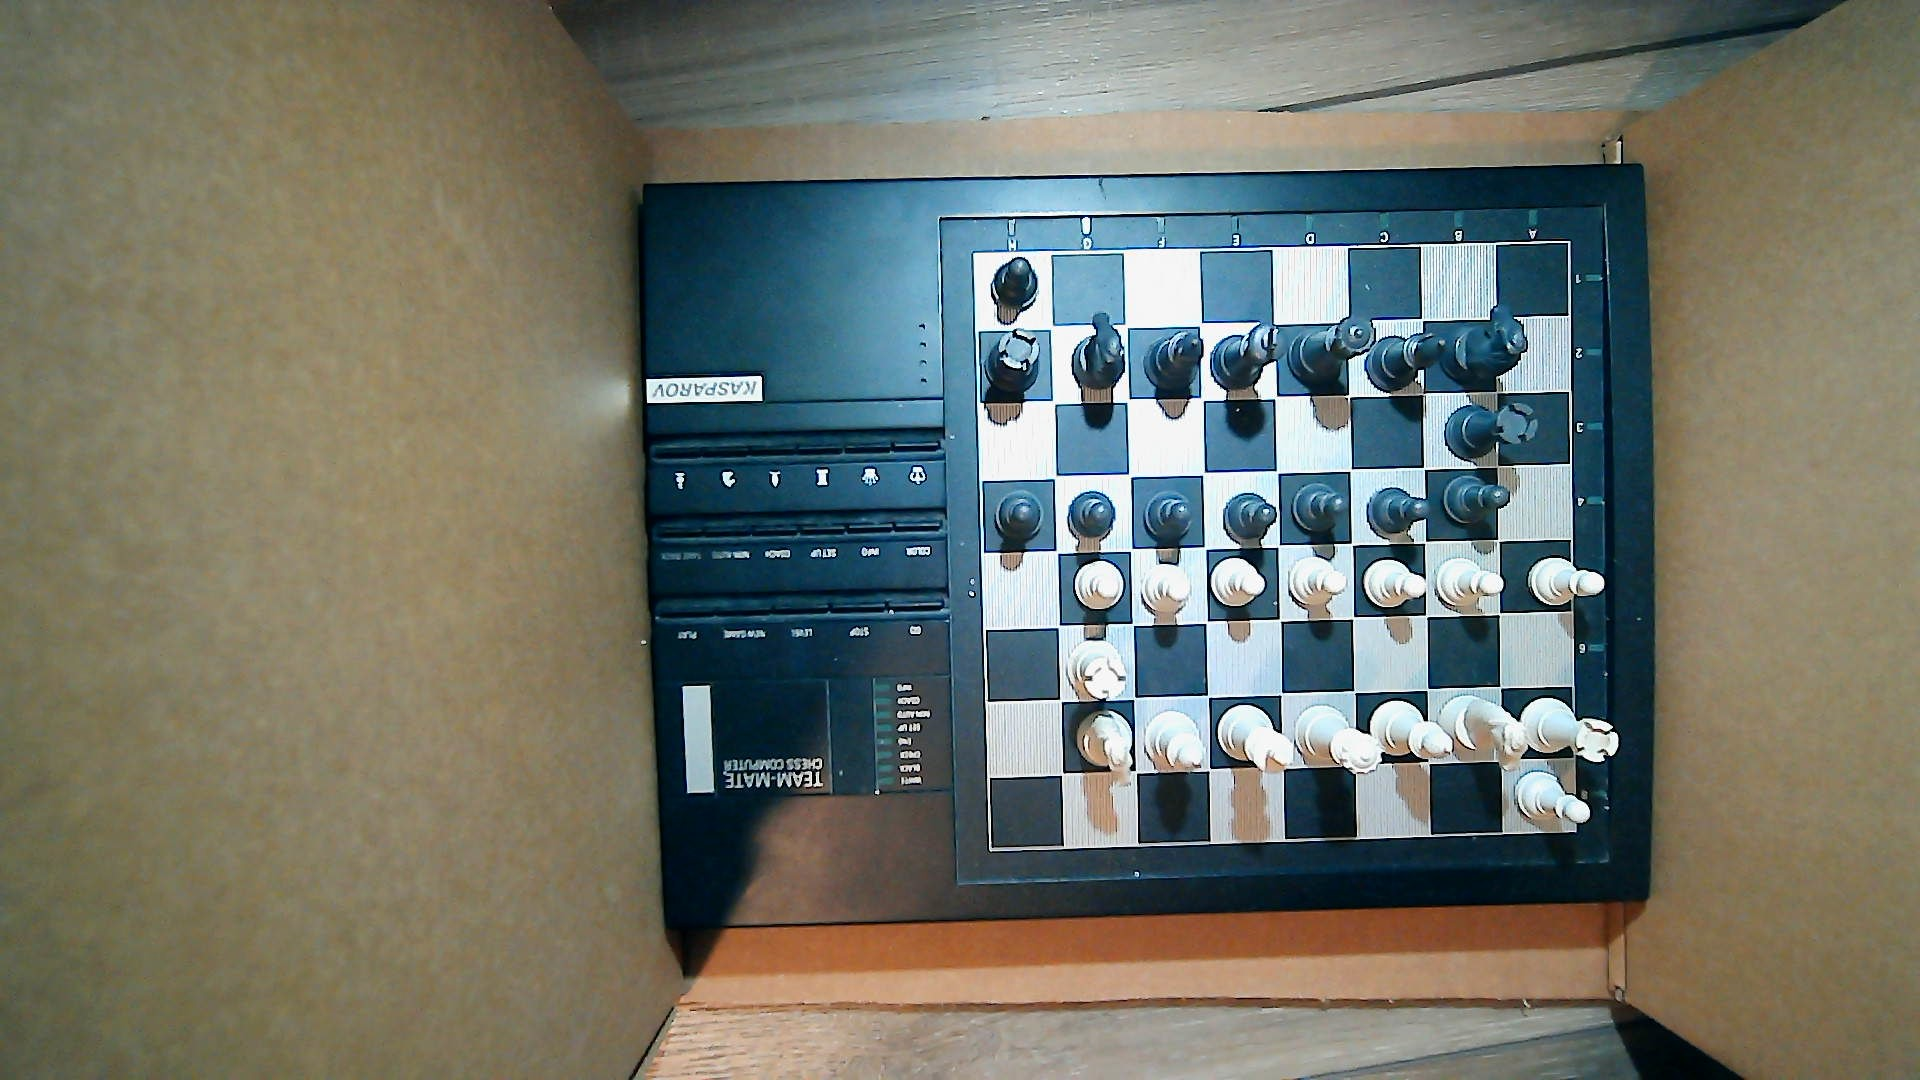bbishop: (1365, 328, 1447, 393), (1143, 330, 1207, 393)
bking: (1209, 322, 1286, 392)
bknight: (1447, 305, 1528, 386), (1069, 313, 1127, 392)
bpawn: (1443, 473, 1511, 527), (1365, 484, 1433, 535), (1291, 481, 1349, 535), (1222, 491, 1278, 545), (994, 488, 1046, 543), (988, 257, 1040, 309), (1145, 488, 1193, 543), (1065, 491, 1116, 541)
bqueen: (1288, 315, 1375, 384)
brook: (1443, 402, 1539, 458), (985, 328, 1042, 394)
wbishop: (1369, 696, 1455, 764), (1143, 709, 1209, 774)
wking: (1216, 703, 1294, 777)
wknight: (1440, 694, 1530, 775), (1072, 709, 1134, 779)
wpawn: (1527, 553, 1607, 612), (1513, 769, 1592, 828), (1286, 555, 1350, 611), (1436, 558, 1505, 609), (1364, 558, 1425, 608), (1072, 558, 1125, 615), (1209, 556, 1267, 608), (1141, 560, 1191, 615)
wqueen: (1294, 704, 1385, 777)
wrook: (1520, 696, 1618, 764), (1063, 638, 1127, 702)
